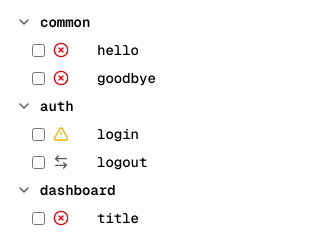
Test: KeyTree › expands and collapses parent nodes
Check: the text "hello" is shown, box [97, 40, 139, 60]
Note: Click to collapse
Click the button named "Collapse" next to "common" at (24,22), box [16, 14, 32, 30]
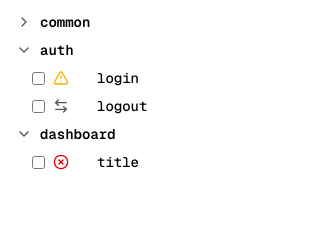
Check: the text "hello" is gone
Note: Click to expand
Click the button named "Expand" at (24,22), box [16, 14, 32, 30]
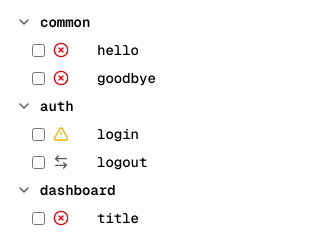
Check: the text "hello" is shown, box [97, 40, 139, 60]
